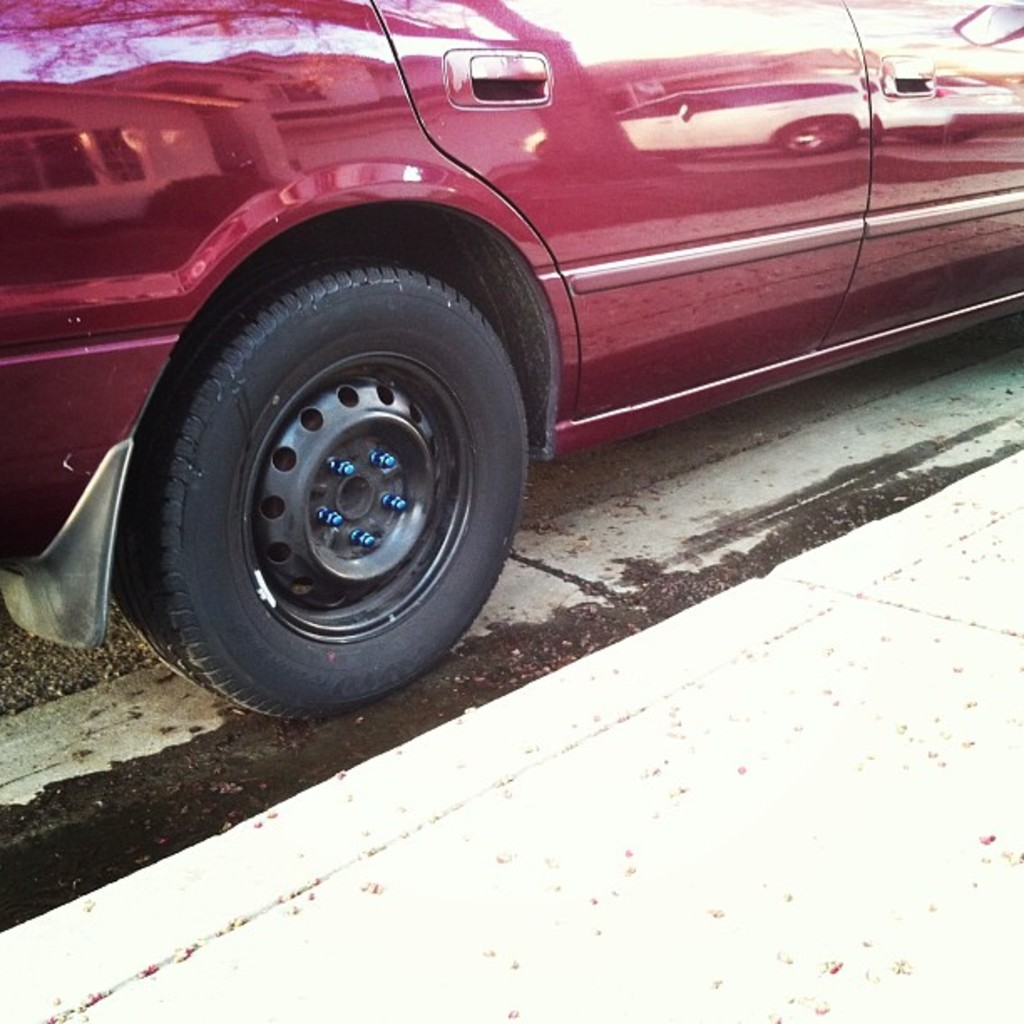Car: (0, 0, 1022, 724)
